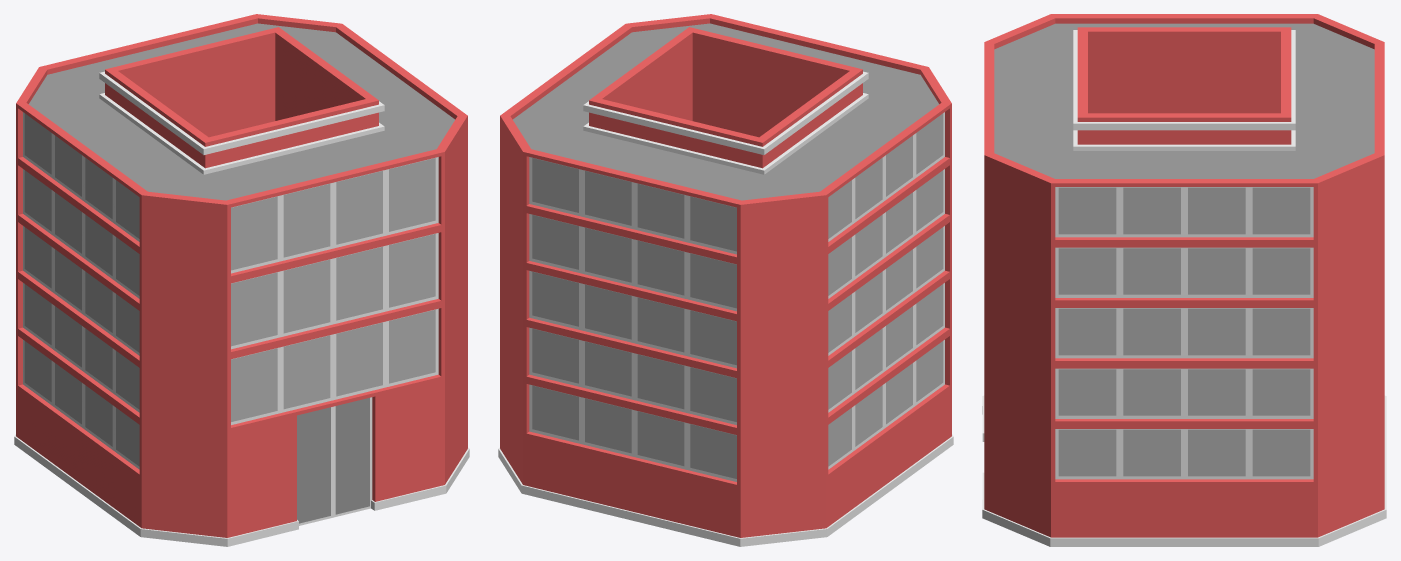
Rendered from SM_House_17_03.FBX.
3 renders of one model, left to right at view 1: azimuth 30°, elevation 25°; view 2: azimuth 150°, elevation 25°; view 3: azimuth 270°, elevation 25°, orthographic. The views are drawn at different scales.
Visible parts, largest first — view 1: SM_House_17_03; view 2: SM_House_17_03; view 3: SM_House_17_03.
Part boxes in pixels (bbox=[...]): SM_House_17_03: bbox=[14, 14, 469, 546]; SM_House_17_03: bbox=[498, 14, 953, 546]; SM_House_17_03: bbox=[982, 14, 1386, 546].
Size of the model in its own units: 6.06 by 6.43 by 6.06.
Materials: 1 (1 with a texture image).
